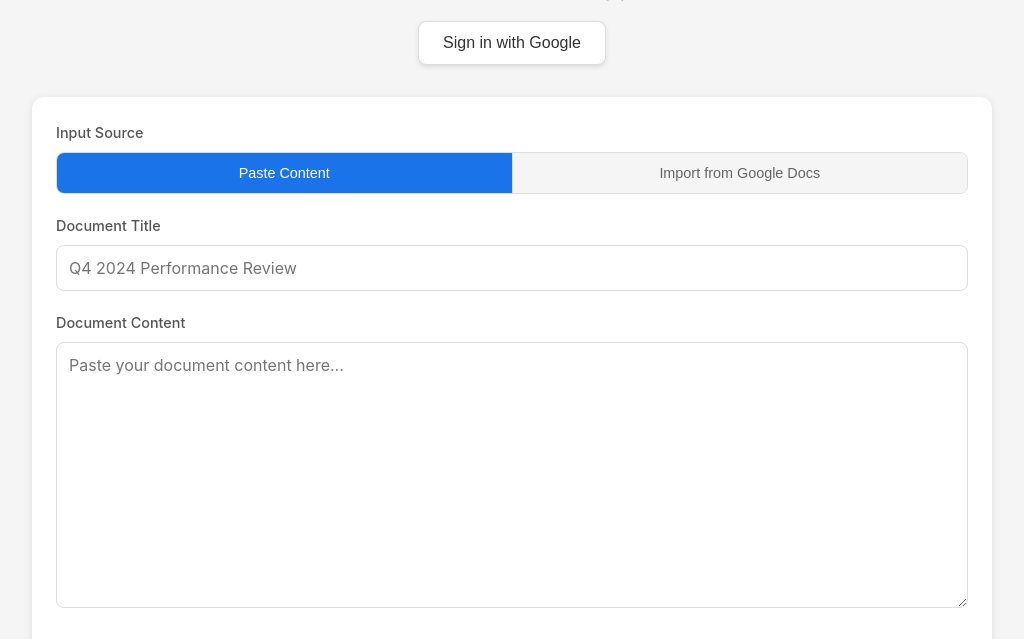
Test case: App › shows loading state when submitting
The image size is (1024, 639).
Type "Test Title" into the field labelled "Document Title" at (512, 268), box [56,245,968,291]
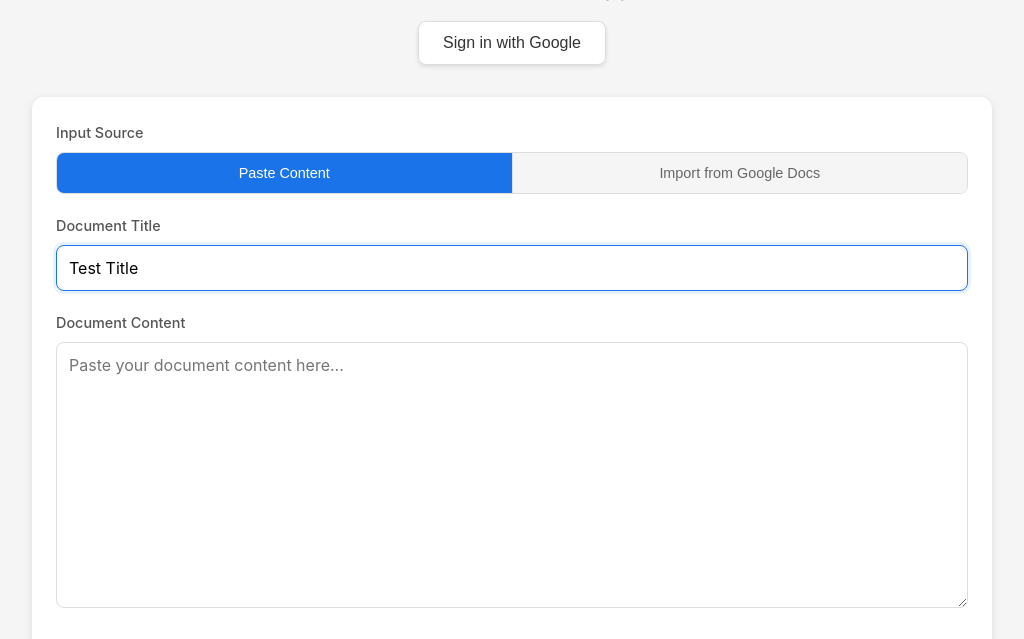
Type "Test content" into the text box labelled "Document Content" at (512, 475), box [56,342,968,608]
(page scrolled)
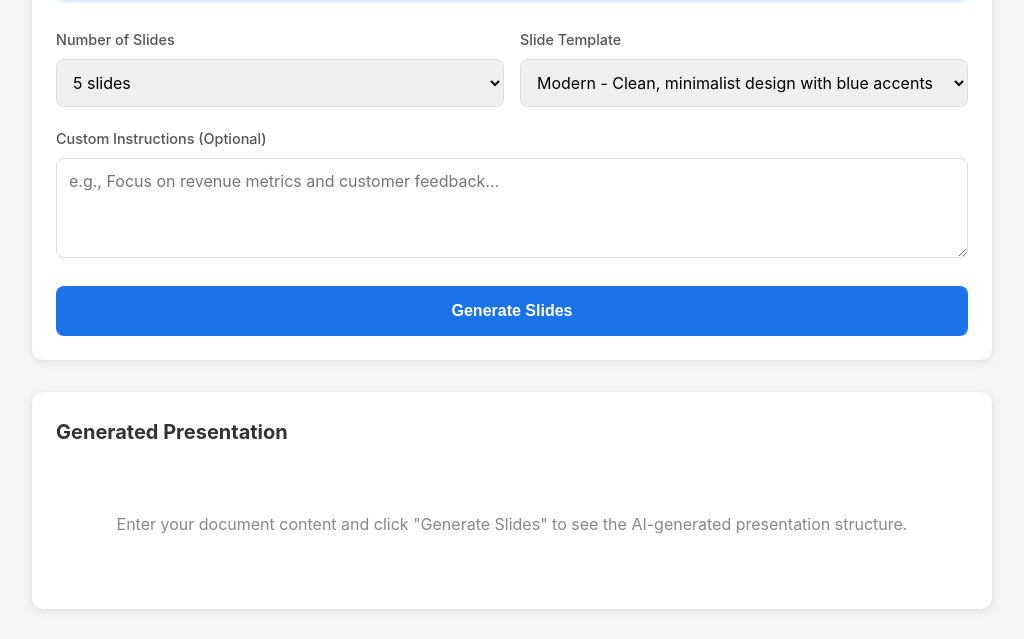
Click the button "Generate Slides" at (512, 311), box [56,286,968,336]
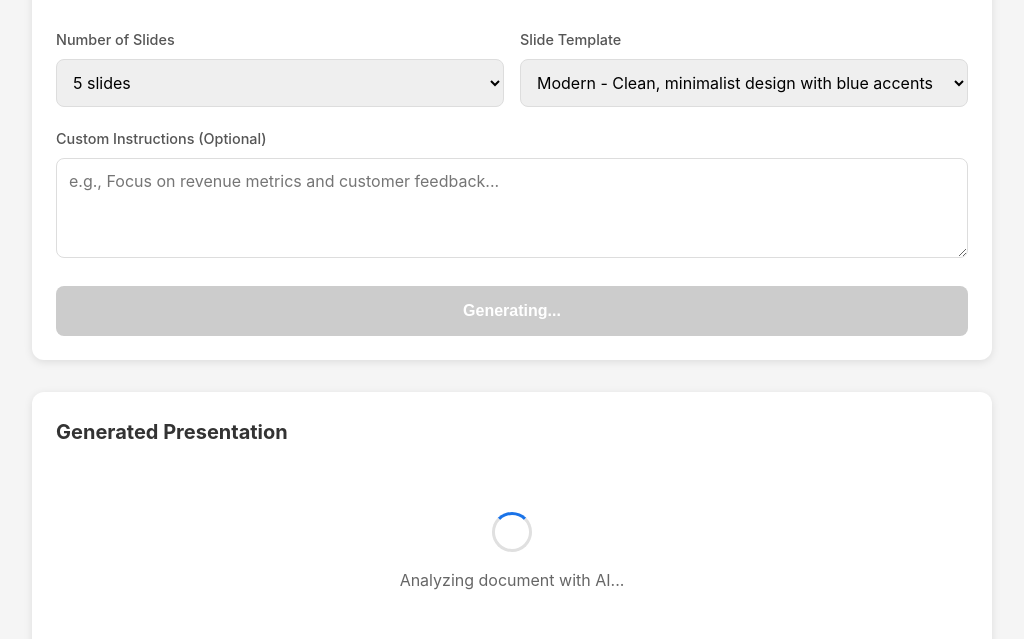
expect the button "Generating..." is shown: met, box [56,286,968,336]
expect the text "Analyzing document with AI..." is shown: met, box [400,570,624,590]
